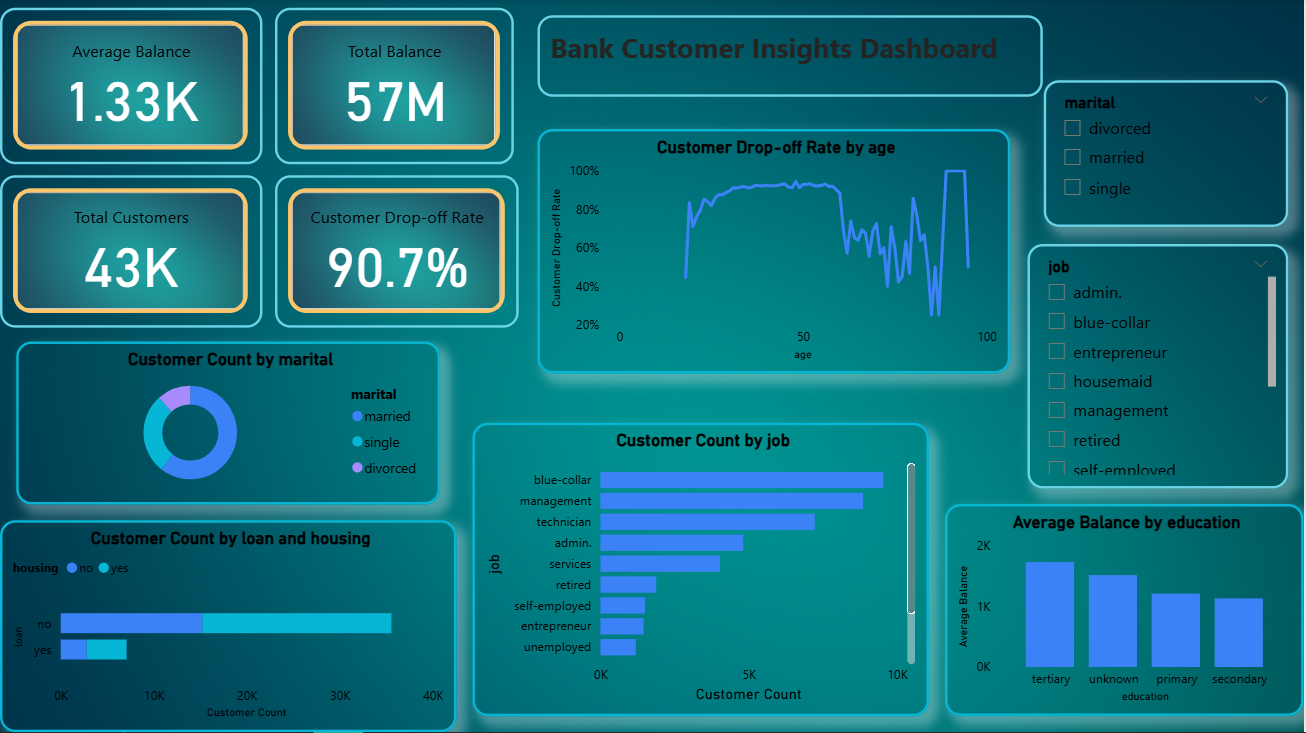

The page's visual inventory and layout, read from the dashboard file:
{"tool":"powerbi","page":{"name":"Page 1","canvas":[1280,720],"ordinal":0},"visuals":[{"type":"cardVisual","fields":{"Data":["BankCustomerData.Average Balance"]},"box":[0,8.6,257.7,153.4],"z":0},{"type":"cardVisual","fields":{"Data":["BankCustomerData.Customer Drop-off Rate"]},"box":[269.9,173,239.3,149.7],"z":1000},{"type":"cardVisual","fields":{"Data":["BankCustomerData.Total Balance"]},"box":[269.9,8.6,234.4,153.4],"z":2000},{"type":"cardVisual","fields":{"Data":["BankCustomerData.Total Customers"]},"box":[0,173,257.7,149.7],"z":3000},{"type":"clusteredColumnChart","fields":{"Category":["BankCustomerData.education"],"Y":["BankCustomerData.Average Balance"]},"box":[928,496,352,208],"z":4000},{"type":"donutChart","fields":{"Category":["BankCustomerData.marital"],"Y":["BankCustomerData.Customer Count"]},"box":[16,336,416,160],"z":5000},{"type":"barChart","fields":{"Category":["BankCustomerData.loan"],"Series":["BankCustomerData.housing"],"Y":["BankCustomerData.Customer Count"]},"box":[0,512,448,208],"z":6000},{"type":"lineChart","fields":{"Category":["BankCustomerData.age"],"Y":["BankCustomerData.Customer Drop-off Rate"]},"box":[528,128,464,240],"z":7000},{"type":"clusteredBarChart","fields":{"Category":["BankCustomerData.job"],"Y":["BankCustomerData.Customer Count"]},"box":[464,416,448,288],"z":8000},{"type":"slicer","fields":{"Values":["BankCustomerData.job"]},"box":[1008,240,256,240],"z":9000},{"type":"slicer","fields":{"Values":["BankCustomerData.marital"]},"box":[1024,80,240,144],"z":10000},{"type":"textbox","box":[528,16,496,80],"z":11000}]}

Visuals, with their boxes in screenshot pixels (x1, y1, x2, y2), scaled from the page's 1280x720 canvas onto the 1306x733 screenshot:
cardVisual - BankCustomerData.Average Balance: bbox=(0, 9, 263, 165)
cardVisual - BankCustomerData.Customer Drop-off Rate: bbox=(275, 176, 520, 329)
cardVisual - BankCustomerData.Total Balance: bbox=(275, 9, 515, 165)
cardVisual - BankCustomerData.Total Customers: bbox=(0, 176, 263, 329)
clusteredColumnChart - BankCustomerData.education x BankCustomerData.Average Balance: bbox=(947, 505, 1305, 717)
donutChart - BankCustomerData.marital x BankCustomerData.Customer Count: bbox=(16, 342, 441, 505)
barChart - BankCustomerData.loan x BankCustomerData.housing: bbox=(0, 521, 457, 732)
lineChart - BankCustomerData.age x BankCustomerData.Customer Drop-off Rate: bbox=(539, 130, 1012, 375)
clusteredBarChart - BankCustomerData.job x BankCustomerData.Customer Count: bbox=(473, 424, 931, 717)
slicer - BankCustomerData.job: bbox=(1028, 244, 1290, 489)
slicer - BankCustomerData.marital: bbox=(1045, 81, 1290, 228)
textbox: bbox=(539, 16, 1045, 98)
